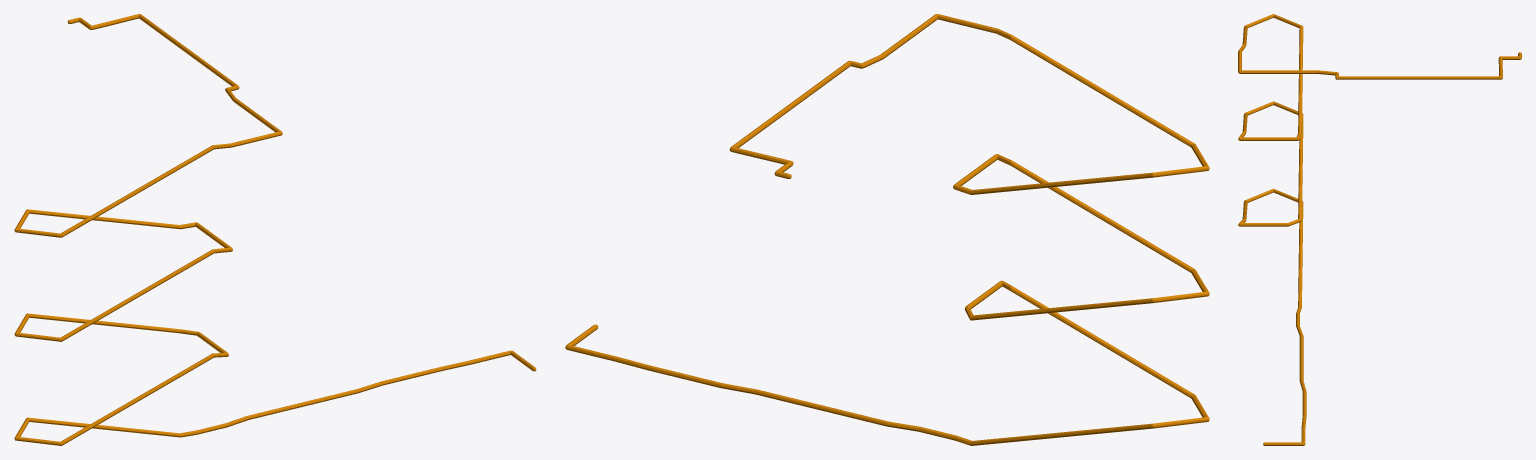
The picture shows the model from 3 angles, left to right: view 1: azimuth 30°, elevation 25°; view 2: azimuth 150°, elevation 25°; view 3: azimuth 270°, elevation 25°; orthographic projection. The views are drawn at different scales.
Size of the model in its own units: 2595 by 1520 by 1472.
